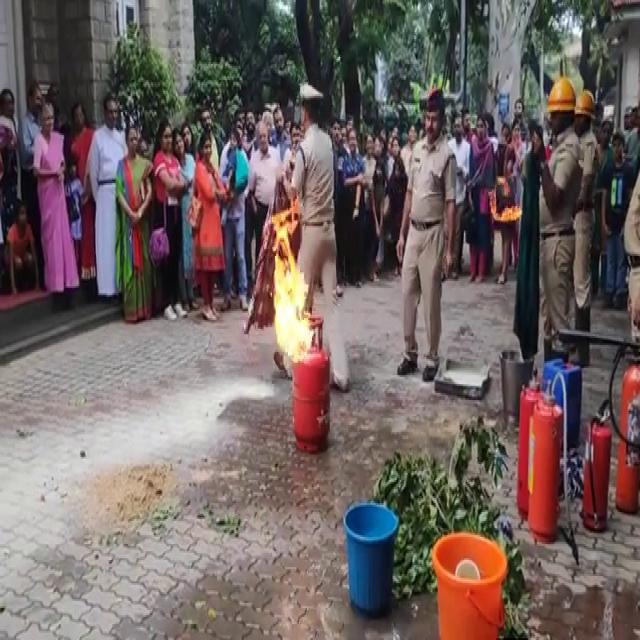fire: (258, 214, 322, 370)
